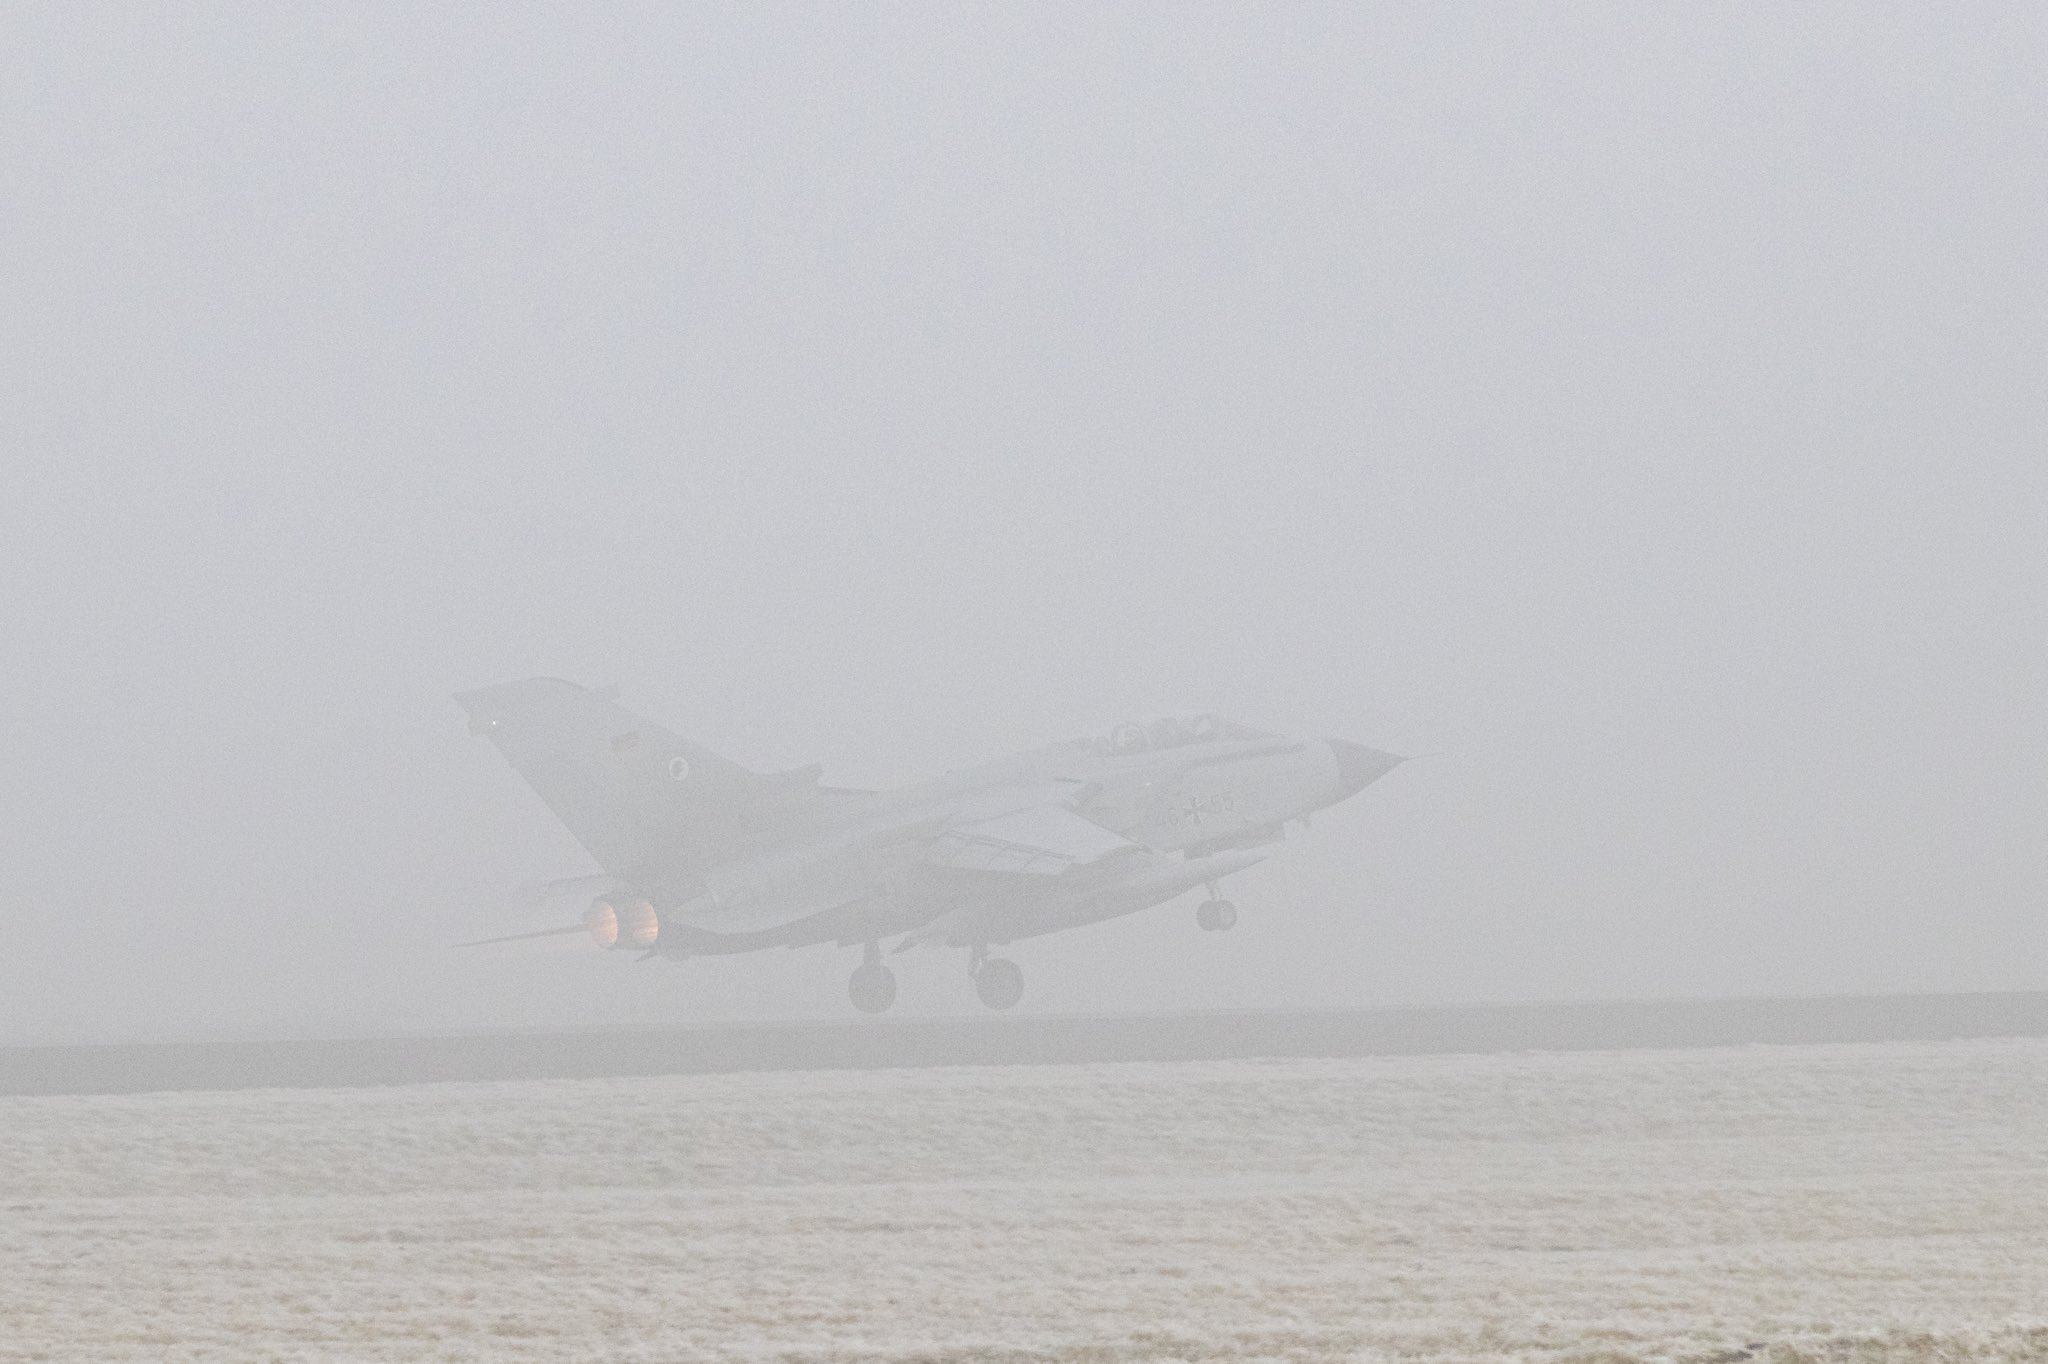Tornado: (449, 676, 1444, 1012)
